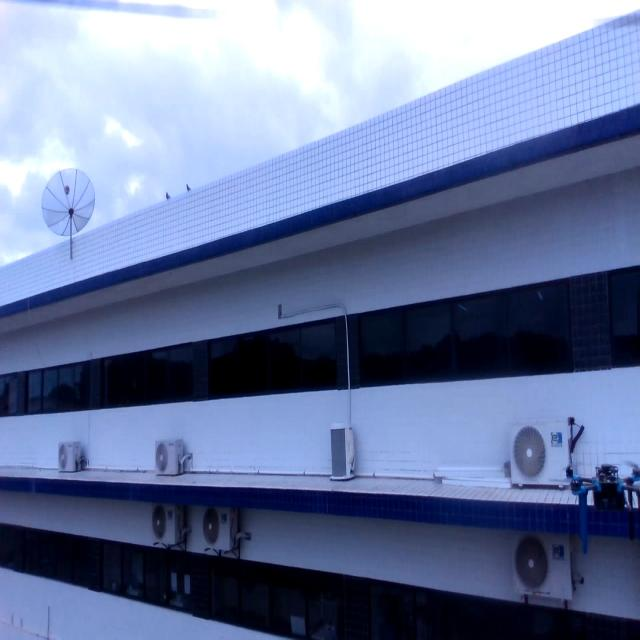-uav-: (554, 439, 640, 557)
